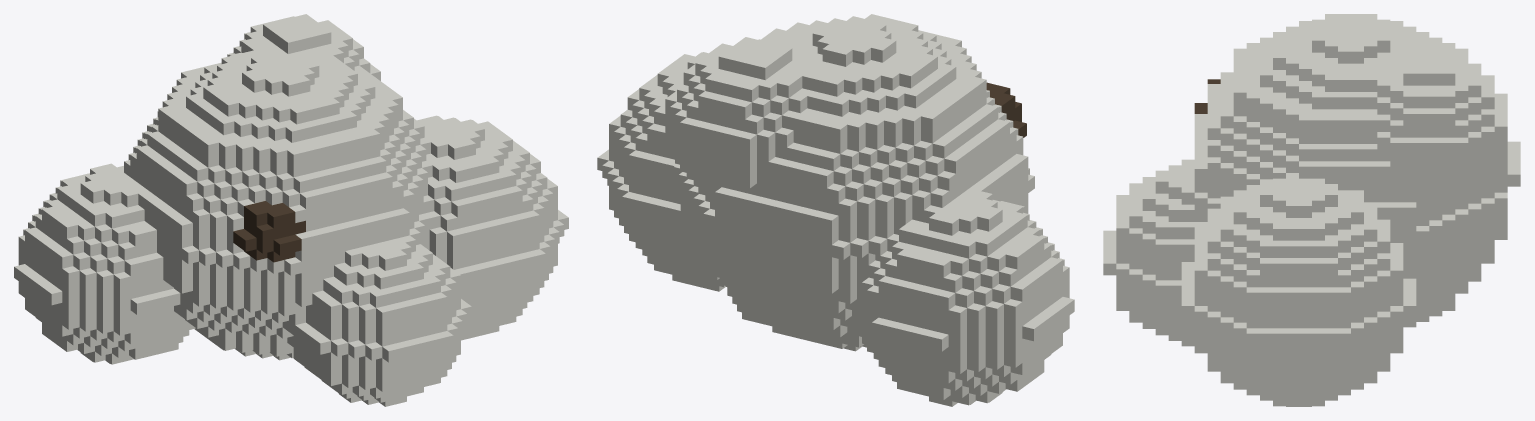
The model's file is cottonwood_tree_boll.glb.
3 renders of one model, left to right at view 1: azimuth 30°, elevation 25°; view 2: azimuth 150°, elevation 25°; view 3: azimuth 270°, elevation 25°, orthographic. The views are drawn at different scales.
Parts seen in each view (by area): view 1: cottonwood_tree_boll:compound; view 2: cottonwood_tree_boll:compound; view 3: cottonwood_tree_boll:compound.
Boxes of the visible parts, x1,y1,x2,y2 form: cottonwood_tree_boll:compound: [14, 14, 568, 406]; cottonwood_tree_boll:compound: [597, 14, 1074, 406]; cottonwood_tree_boll:compound: [1103, 14, 1520, 406].
Bounding box in the file's own units: 0.084 × 0.048 × 0.064.
